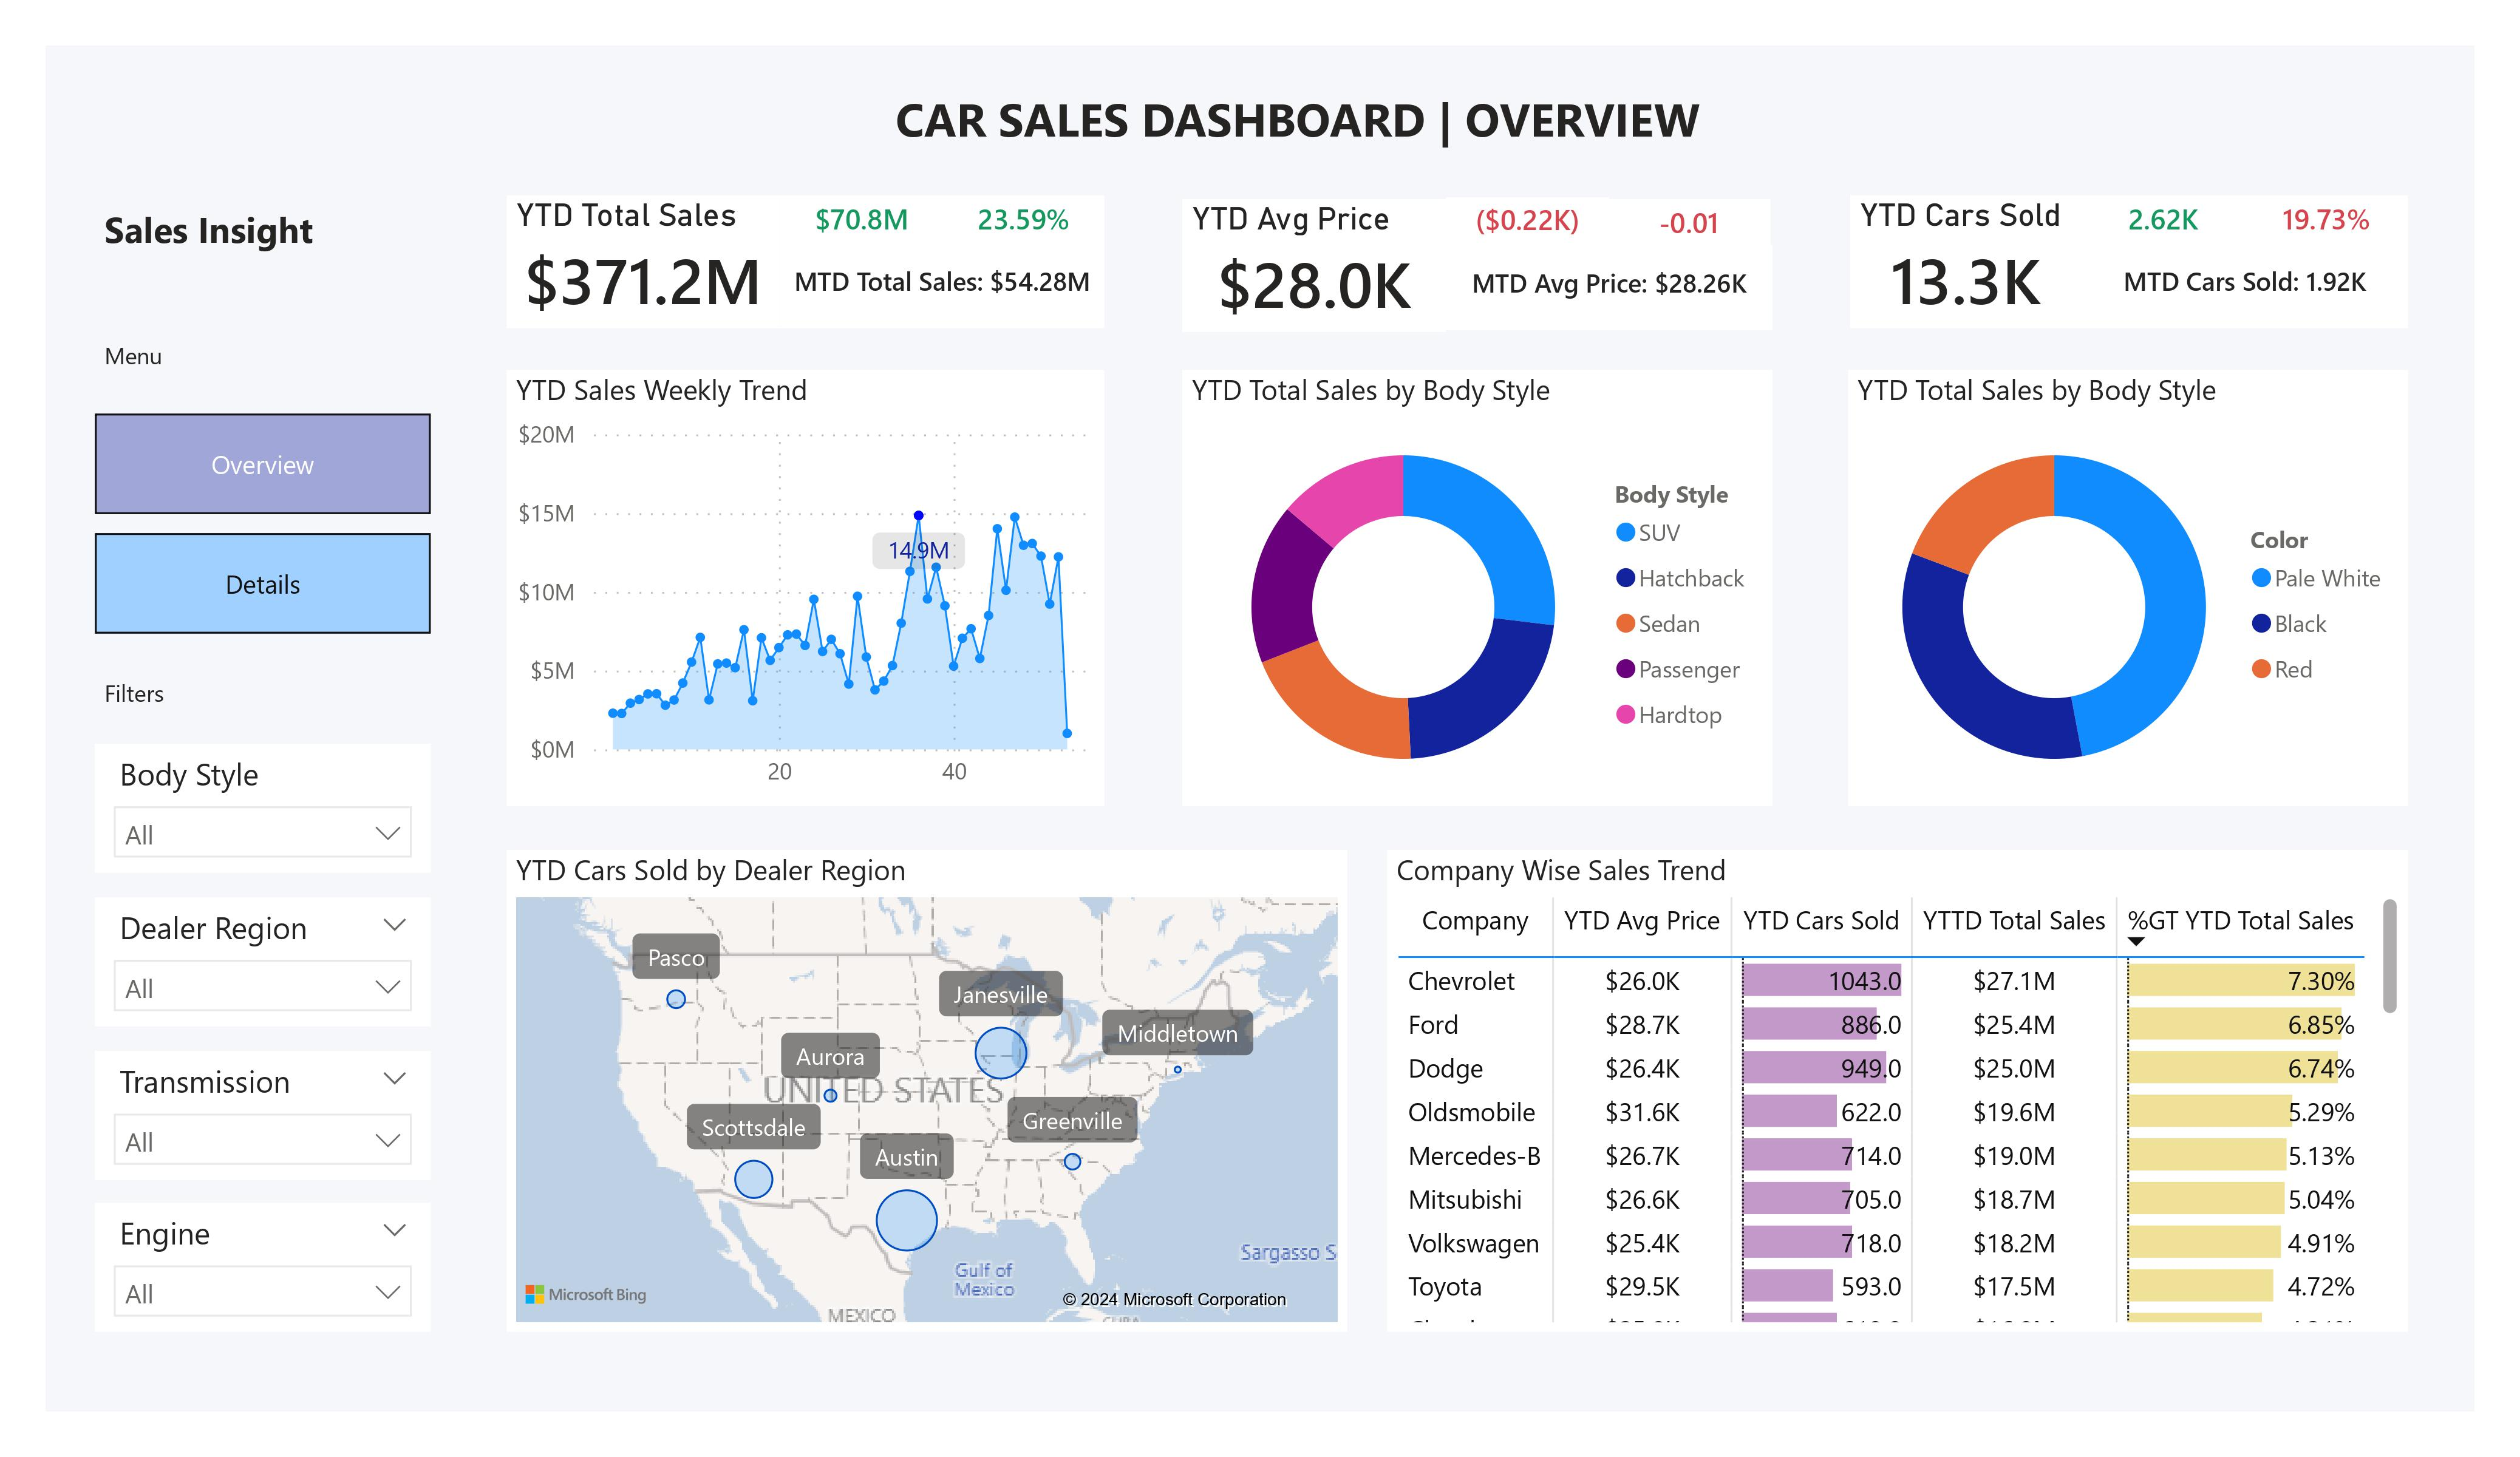

The page's visual inventory and layout, read from the dashboard file:
{"tool":"powerbi","page":{"name":"Overview","canvas":[1280,720],"ordinal":0},"visuals":[{"type":"card","title":"YTD Total Sales","fields":{"Values":["car_data.YTTD Total Sales"]},"box":[243,79.1,143.7,70.1],"z":0},{"type":"card","fields":{"Values":["car_data.Sales Difference"]},"box":[386.6,79.1,86.1,25],"z":1000},{"type":"card","fields":{"Values":["car_data.YoY Sales Growth"]},"box":[472.7,79.1,85.4,25],"z":2000},{"type":"card","fields":{"Values":["car_data.MTD KPI"]},"box":[386.6,104.1,171.5,45.1],"z":3000},{"type":"card","title":"YTD Avg Price","fields":{"Values":["car_data.YTD Avg Price"]},"box":[599,80.5,138.8,70.1],"z":4000},{"type":"card","fields":{"Values":["car_data.Average Price Difference"]},"box":[738.2,80.2,86.1,25.3],"z":5000},{"type":"card","fields":{"Values":["car_data.YoY Avg Price Growth"]},"box":[823.3,80.5,86.1,25],"z":6000},{"type":"card","fields":{"Values":["car_data.MTD Avg Price KPI"]},"box":[738.2,104.8,171.4,45.6],"z":7000},{"type":"card","title":"YTD Cars Sold","fields":{"Values":["car_data.YTD Cars Sold"]},"box":[951,79.1,122.2,70.1],"z":8000},{"type":"card","fields":{"Values":["car_data.Cars Sold Diff"]},"box":[1073.1,79.1,86.1,25],"z":9000},{"type":"card","fields":{"Values":["car_data.YoY Car Sold Growth"]},"box":[1159.2,79.1,86.1,25],"z":10000},{"type":"card","fields":{"Values":["car_data.MTD Cars Sold KPI"]},"box":[1073.1,104.1,172.1,45.1],"z":11000},{"type":"areaChart","title":"YTD Sales Weekly Trend","fields":{"Category":["Calendar Table.Week"],"Y":["Sum(car_data.Price ($))","car_data.Max Point"]},"box":[243,170.8,315.1,230.5],"z":12000},{"type":"donutChart","title":"YTD Total Sales by Body Style","fields":{"Category":["car_data.Body Style"],"Y":["car_data.YTTD Total Sales"]},"box":[599,170.8,311,230.5],"z":13000},{"type":"donutChart","title":"YTD Total Sales by Body Style","fields":{"Category":["car_data.Color","car_data.Body Style"],"Y":["car_data.YTTD Total Sales"]},"box":[950.3,170.8,295,230.5],"z":14000},{"type":"map","title":"YTD Cars Sold by Dealer Region","fields":{"Category":["car_data.Dealer_Region"],"Size":["car_data.YTD Cars Sold"]},"box":[243,424.1,442.9,254.1],"z":15000},{"type":"tableEx","title":"Company Wise Sales Trend","fields":{"Values":["car_data.Company","car_data.YTD Avg Price","car_data.YTD Cars Sold","car_data.YTTD Total Sales1","car_data.YTTD Total Sales"]},"box":[706.6,424.1,538.7,254.1],"z":16000},{"type":"textbox","box":[442.9,16.7,451.2,47.2],"z":17000},{"type":"slicer","fields":{"Values":["car_data.Body Style"]},"box":[26.4,367.9,176.3,68],"z":18000},{"type":"slicer","fields":{"Values":["car_data.Dealer_Region"]},"box":[26.4,449.1,176.3,68],"z":19000},{"type":"slicer","fields":{"Values":["car_data.Transmission"]},"box":[26.4,529.6,176.3,68],"z":20000},{"type":"slicer","fields":{"Values":["car_data.Engine"]},"box":[26.4,610.2,176.3,68],"z":21000},{"type":"textbox","box":[26.4,326.9,53.4,30.5],"z":22000},{"type":"textbox","box":[25.7,79.1,147.2,35.4],"z":23000},{"type":"textbox","box":[26.4,149.2,53.4,29.8],"z":24000},{"type":"pageNavigator","box":[25.7,193.7,177,117.3],"z":25000}]}

Visuals, with their boxes in screenshot pixels (x1, y1, x2, y2):
"YTD Total Sales" card: [506,195,779,328]
card - car_data.Sales Difference: [779,195,942,243]
card - car_data.YoY Sales Growth: [942,195,1105,243]
card - car_data.MTD KPI: [779,243,1105,328]
"YTD Avg Price" card: [1182,199,1446,331]
card - car_data.Average Price Difference: [1446,198,1610,246]
card - car_data.YoY Avg Price Growth: [1608,199,1771,246]
card - car_data.MTD Avg Price KPI: [1446,244,1772,331]
"YTD Cars Sold" card: [1850,195,2082,328]
card - car_data.Cars Sold Diff: [2082,195,2245,243]
card - car_data.YoY Car Sold Growth: [2246,195,2409,243]
card - car_data.MTD Cars Sold KPI: [2082,243,2408,328]
"YTD Sales Weekly Trend" areaChart: [506,370,1105,807]
"YTD Total Sales by Body Style" donutChart: [1182,370,1773,807]
"YTD Total Sales by Body Style" donutChart: [1849,370,2409,807]
"YTD Cars Sold by Dealer Region" map: [506,850,1347,1332]
"Company Wise Sales Trend" tableEx: [1386,850,2409,1332]
textbox: [886,77,1742,167]
slicer - car_data.Body Style: [96,744,430,872]
slicer - car_data.Dealer_Region: [96,897,430,1027]
slicer - car_data.Transmission: [96,1050,430,1179]
slicer - car_data.Engine: [96,1203,430,1332]
textbox: [96,666,197,724]
textbox: [94,195,373,263]
textbox: [96,328,197,385]
pageNavigator: [94,413,430,636]
